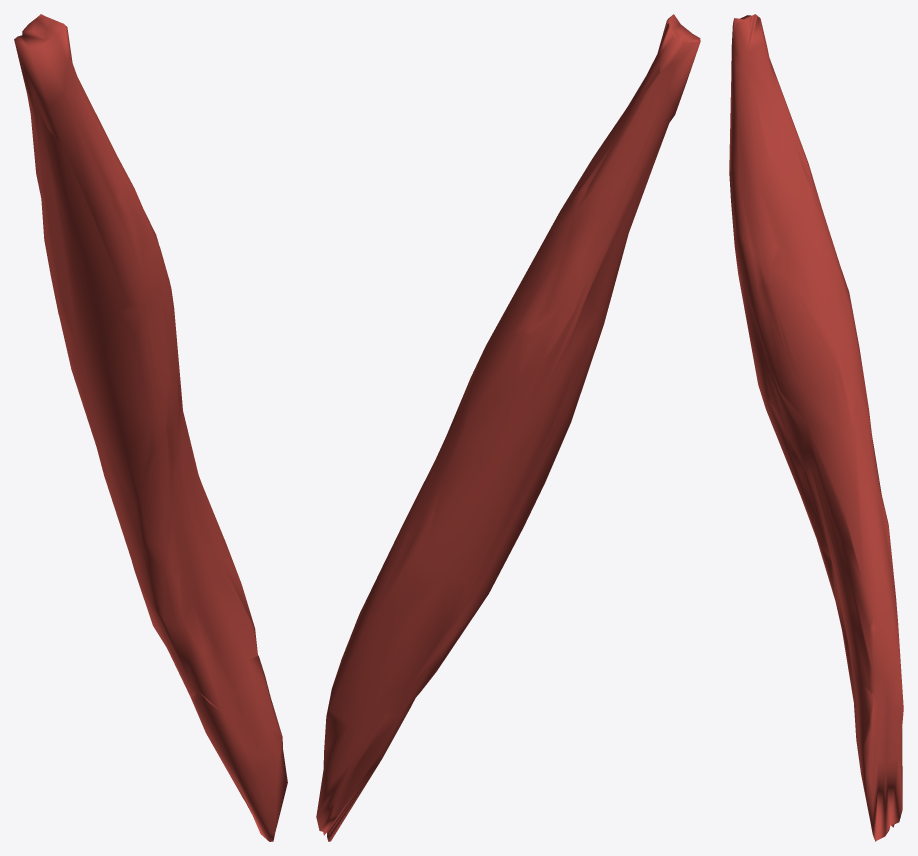
Rendered from musculos-coracobrachialis-muscle-l.glb.
3 renders of one model, left to right at view 1: azimuth 30°, elevation 25°; view 2: azimuth 150°, elevation 25°; view 3: azimuth 270°, elevation 25°, orthographic. The views are drawn at different scales.
Visible parts, largest first — view 1: Coracobrachialis muscle.l; view 2: Coracobrachialis muscle.l; view 3: Coracobrachialis muscle.l.
Boxes of the visible parts, x1=… form: Coracobrachialis muscle.l: x1=14, y1=14, x2=287, y2=841; Coracobrachialis muscle.l: x1=316, y1=14, x2=700, y2=841; Coracobrachialis muscle.l: x1=729, y1=14, x2=903, y2=841.
Size of the model in its own units: 0.0608 by 0.1583 by 0.035.
